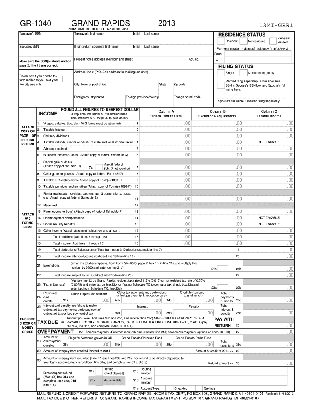checkbox: (216, 263, 230, 273), (216, 282, 230, 292), (267, 36, 278, 46), (238, 67, 249, 77), (94, 375, 104, 386), (95, 365, 104, 377), (216, 37, 227, 46), (238, 36, 249, 45), (216, 68, 227, 77), (215, 80, 226, 89), (93, 162, 104, 171), (194, 384, 203, 393), (165, 384, 173, 393)
textbox: (73, 68, 215, 83), (153, 364, 289, 379), (72, 55, 189, 71), (152, 374, 289, 386), (17, 80, 75, 108), (72, 80, 160, 95), (143, 29, 214, 46), (142, 43, 214, 59), (72, 30, 132, 46), (72, 42, 132, 58), (16, 42, 75, 58), (240, 351, 295, 368), (17, 30, 75, 46), (241, 257, 296, 273), (242, 301, 296, 317), (71, 93, 126, 108), (242, 277, 296, 292), (242, 289, 296, 304), (242, 314, 296, 329), (240, 334, 296, 348), (124, 93, 174, 107), (171, 92, 214, 108), (171, 81, 214, 96), (223, 54, 293, 63), (223, 49, 292, 58), (241, 345, 296, 355), (242, 270, 296, 280), (240, 125, 295, 134), (138, 131, 193, 140), (138, 137, 193, 146), (240, 137, 295, 146), (138, 144, 193, 153), (138, 162, 193, 171), (240, 163, 295, 172), (240, 169, 295, 178), (190, 169, 245, 178), (190, 175, 245, 184), (138, 194, 193, 203), (189, 181, 244, 190), (240, 181, 295, 190), (190, 194, 245, 203), (190, 206, 245, 215), (138, 207, 193, 216), (138, 225, 193, 234), (189, 225, 244, 234), (137, 231, 192, 240), (137, 238, 192, 247), (189, 238, 244, 247), (241, 245, 296, 254), (242, 327, 297, 336), (139, 118, 193, 127), (190, 119, 244, 128), (241, 118, 295, 127), (138, 125, 192, 134), (190, 125, 244, 134), (190, 131, 244, 140), (241, 131, 295, 140), (190, 138, 244, 147), (241, 144, 295, 153), (190, 143, 244, 152), (241, 150, 295, 159), (190, 163, 244, 172), (139, 169, 193, 178), (139, 175, 193, 184), (241, 176, 295, 185), (139, 182, 193, 191), (241, 194, 295, 203), (241, 207, 295, 216), (139, 213, 193, 222), (191, 212, 245, 221), (139, 220, 193, 229), (189, 219, 243, 228), (241, 226, 295, 235), (241, 232, 295, 241), (240, 238, 294, 247), (242, 251, 296, 260), (189, 232, 244, 240), (67, 339, 111, 349), (119, 339, 163, 349), (171, 339, 215, 349), (119, 294, 163, 304), (171, 294, 215, 304), (171, 307, 215, 317), (119, 307, 163, 317), (139, 150, 193, 158), (189, 150, 243, 158), (69, 295, 112, 305), (156, 80, 175, 94), (130, 30, 143, 46), (131, 43, 143, 58)
textline: (216, 91, 289, 100)
